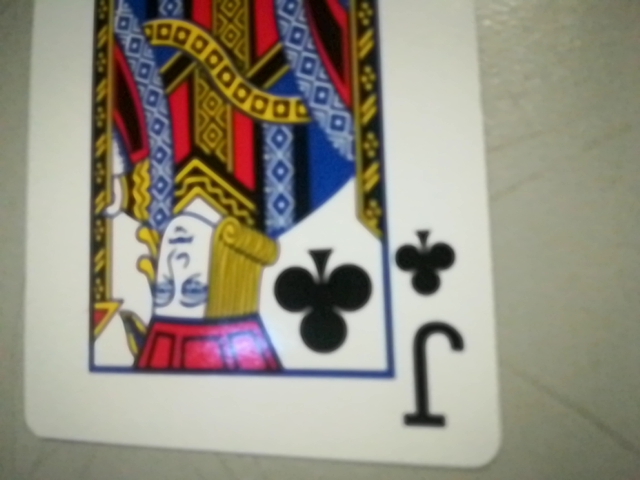mh j: (385, 217, 489, 447)
